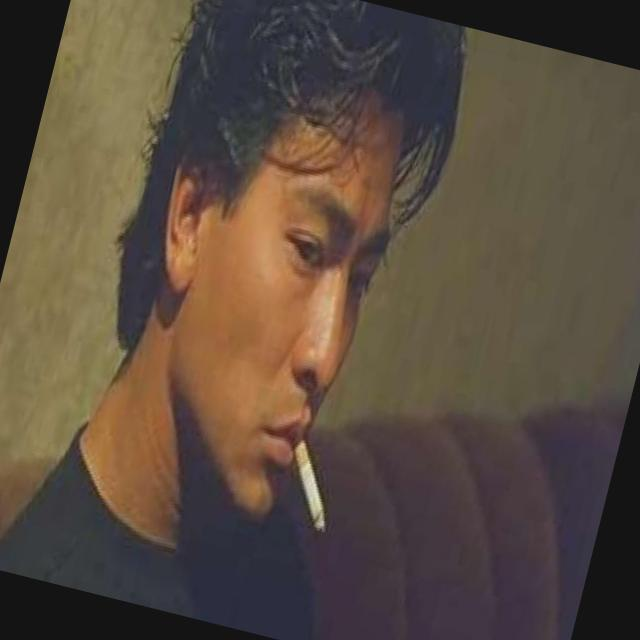cigarette: (267, 411, 352, 540)
